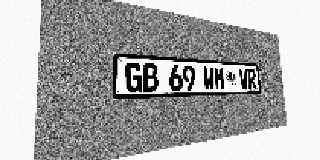6: (169, 65, 183, 91)
9: (183, 65, 196, 91)
B: (142, 63, 158, 92)
G: (125, 62, 142, 92)
M: (214, 67, 225, 90)
R: (247, 69, 257, 89)
V: (239, 68, 249, 89)
W: (203, 66, 215, 90)
